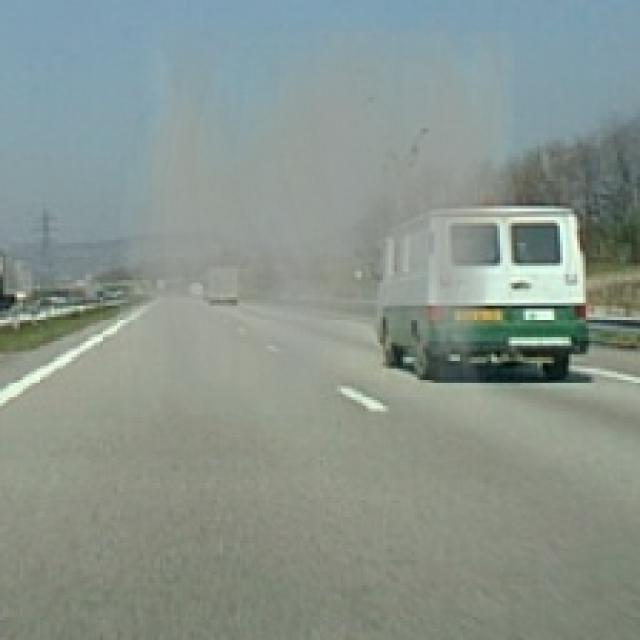Smoke: (120, 26, 514, 423)
